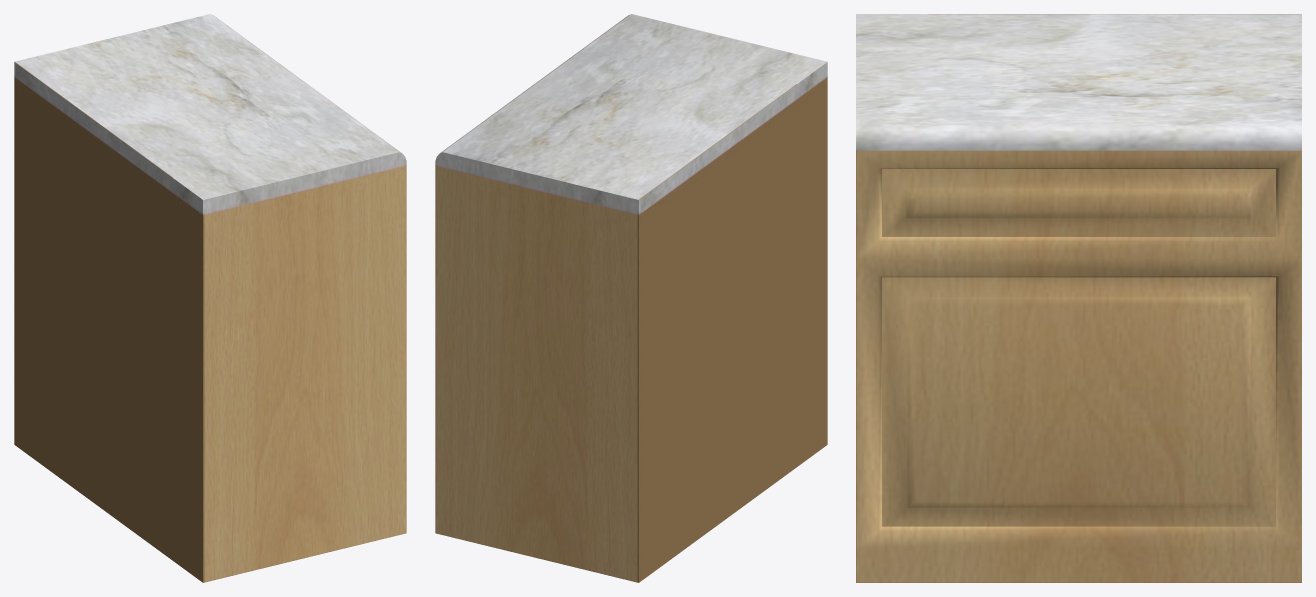
File: kitchen_unit_1.obj
3 renders of one model, left to right at view 1: azimuth 30°, elevation 25°; view 2: azimuth 150°, elevation 25°; view 3: azimuth 270°, elevation 25°, orthographic. The views are drawn at different scales.
Parts seen in each view (by area): view 1: kitchen_unit_1; view 2: kitchen_unit_1; view 3: kitchen_unit_1.
Part boxes in pixels (<box>): kitchen_unit_1: <box>14,14,406,582</box>; kitchen_unit_1: <box>435,14,827,582</box>; kitchen_unit_1: <box>856,14,1301,582</box>.
Size of the model in its own units: 5 by 8.99 by 8.04.
1 material, 1 textured.
